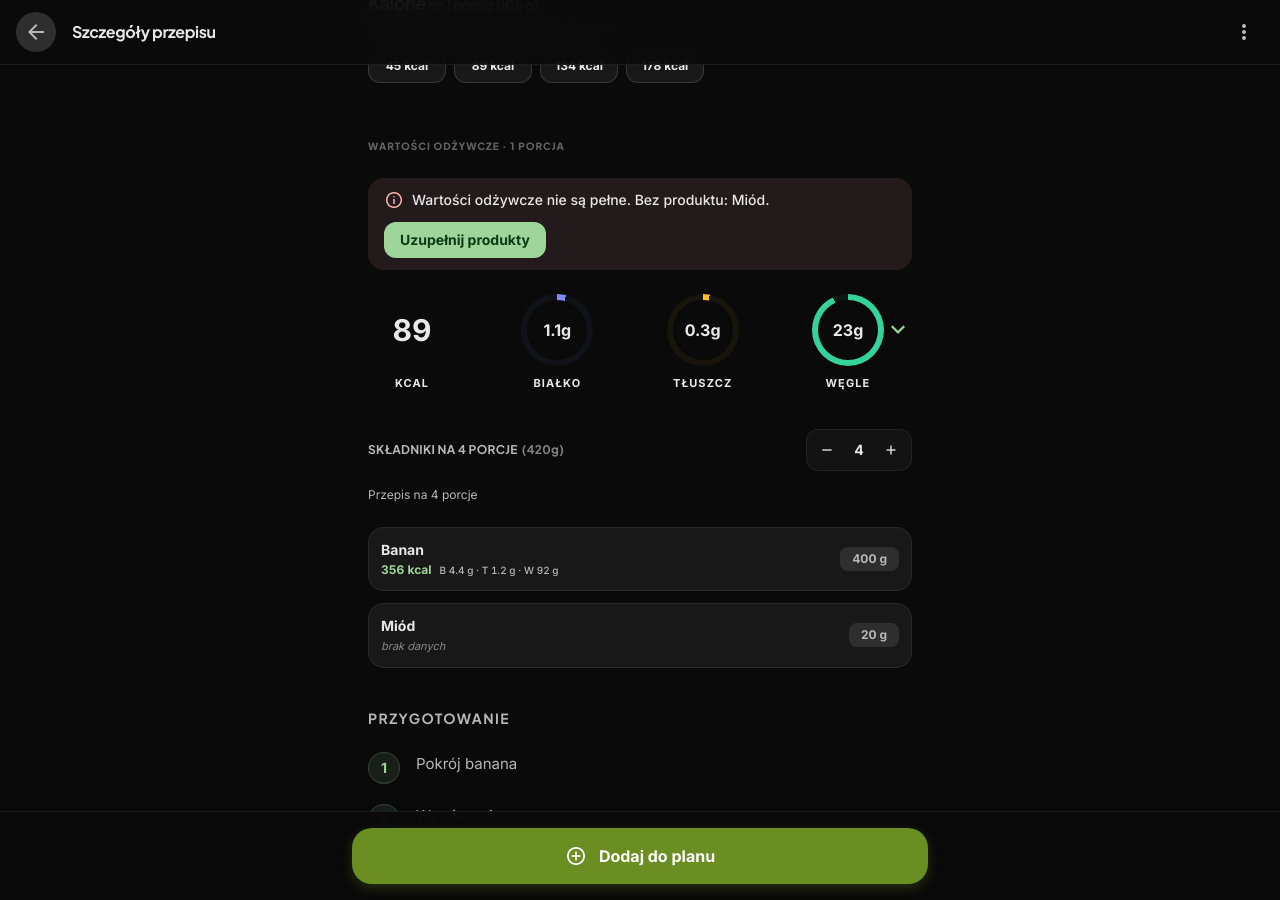
Test: RecipeDetails loading › shows the nutrition of each ingredient for the chosen portions
The width and height of the screenshot is (1280, 900).
(page scrolled)
Expected: the text "356 kcal" is shown, [381,562,432,578]
Expected: the text "B 4.4 g · T 1.2 g · W 92 g" is shown, [440,564,559,576]
Click the button named "Więcej porcji": click(891, 450) [875,434,907,466]
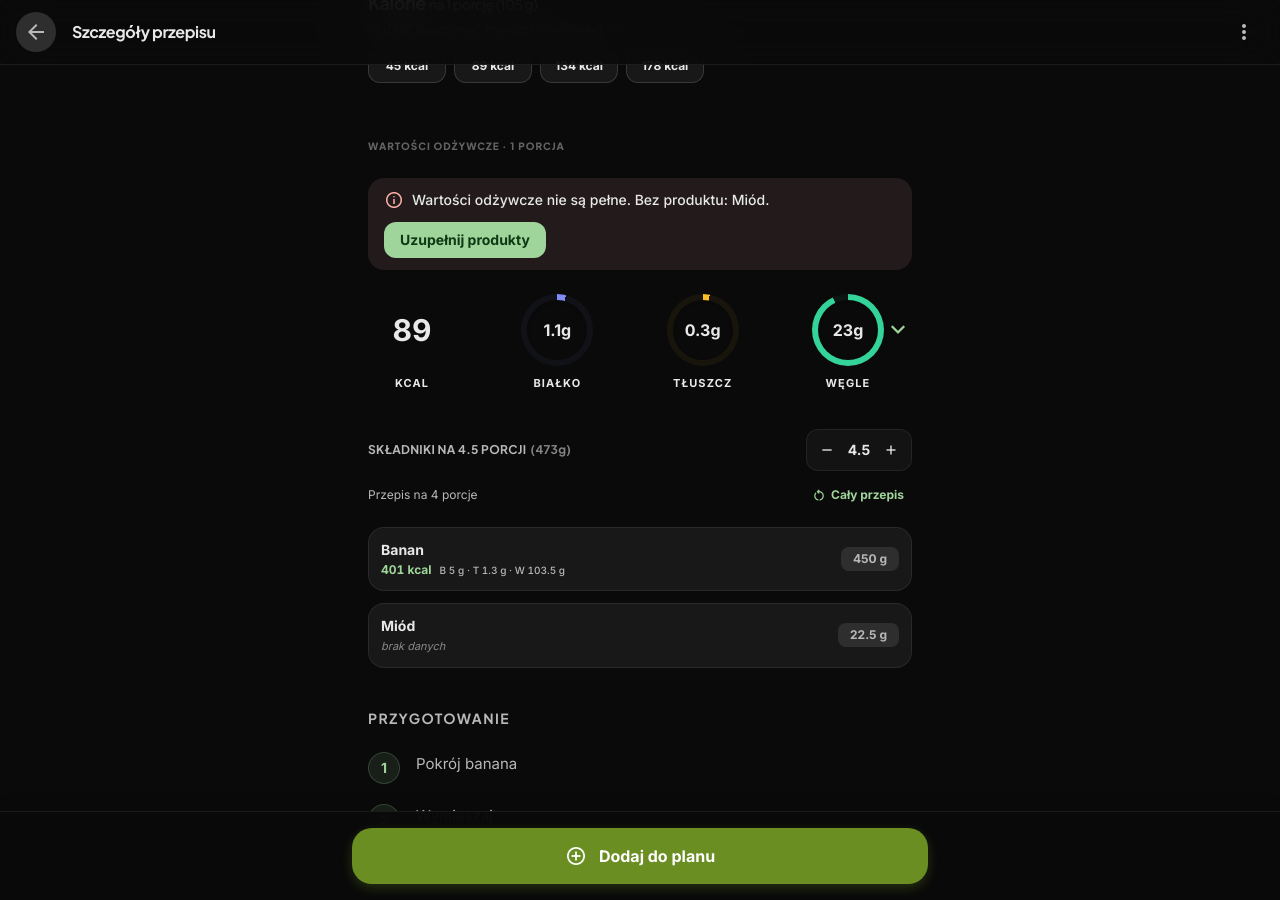
Now the text "401 kcal" is shown, box [381,562,432,578]
